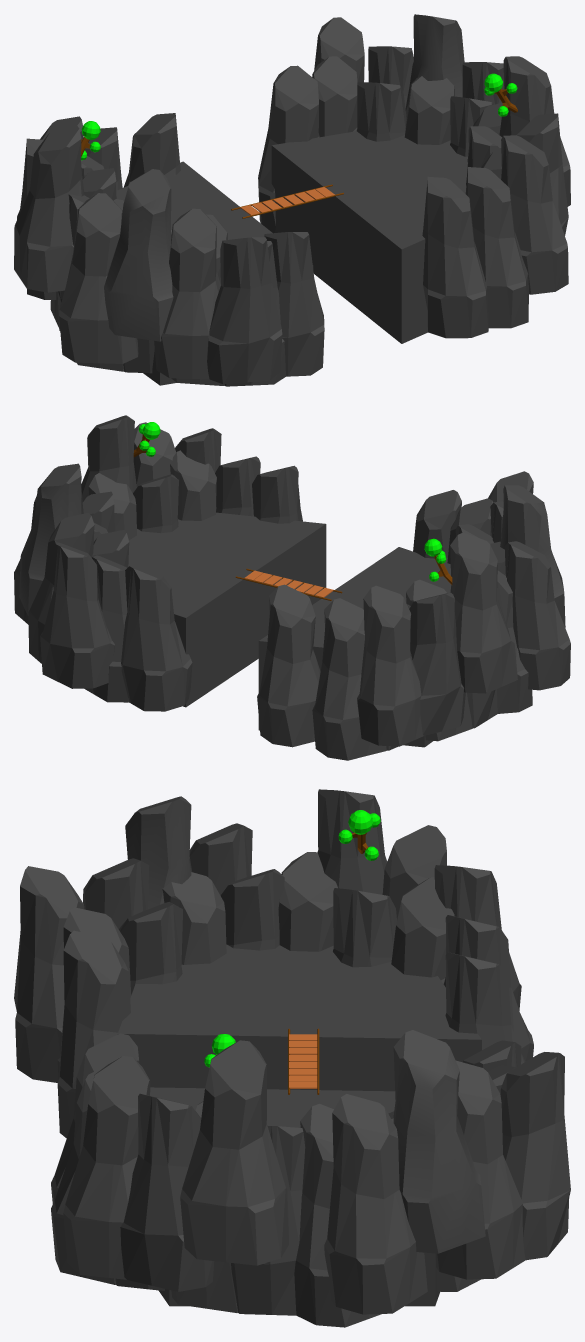
The model's file is mountain arena.FBX.
3 views of the same model, one above another, from view 1: azimuth 30°, elevation 25°; view 2: azimuth 150°, elevation 25°; view 3: azimuth 270°, elevation 25° (orthographic). The views are drawn at different scales.
Parts seen in each view (by area): view 1: Box116, Box130, Box132, Box135, Box124, Box129, Box131, Box090, Box088, Box134, Box136, Box133 (+20 smaller); view 2: Box116, Box122, Box137, Box136, Box101, Box124, Box121, Box129, Box123, Box133, Box099, Box130 (+20 smaller); view 3: Box133, Box092, Box098, Box099, Box090, Box091, Box101, Box132, Box100, Box134, Box097, Box082 (+20 smaller).
Part boxes in pixels (<box>): Box116: <box>271,131,467,343</box>; Box130: <box>104,169,173,341</box>; Box132: <box>207,237,282,384</box>; Box135: <box>422,176,488,338</box>; Box124: <box>14,125,84,292</box>; Box129: <box>59,193,138,363</box>; Box131: <box>154,208,220,379</box>; Box090: <box>501,135,568,294</box>; Box088: <box>465,167,528,328</box>; Box134: <box>264,232,324,376</box>; Box136: <box>258,65,319,233</box>; Box133: <box>116,161,313,385</box>; Box116: <box>128,512,326,707</box>; Box122: <box>357,585,423,746</box>; Box137: <box>257,584,320,747</box>; Box136: <box>121,564,192,711</box>; Box101: <box>40,542,114,688</box>; Box124: <box>450,532,517,693</box>; Box121: <box>312,598,386,760</box>; Box129: <box>504,541,570,690</box>; Box123: <box>409,592,465,735</box>; Box133: <box>258,547,451,747</box>; Box099: <box>19,463,83,615</box>; Box130: <box>500,485,565,627</box>; Box133: <box>117,944,481,1091</box>; Box092: <box>180,1040,288,1265</box>; Box098: <box>324,1094,427,1314</box>; Box099: <box>393,1030,485,1253</box>; Box090: <box>63,1056,150,1279</box>; Box091: <box>120,1093,214,1291</box>; Box101: <box>500,1052,570,1260</box>; Box132: <box>14,866,84,1082</box>; Box100: <box>435,1060,525,1279</box>; Box134: <box>57,930,130,1138</box>; Box097: <box>294,1104,381,1327</box>; Box082: <box>231,1125,305,1315</box>.
Size of the model in its own units: 1906 by 726 by 1350.
